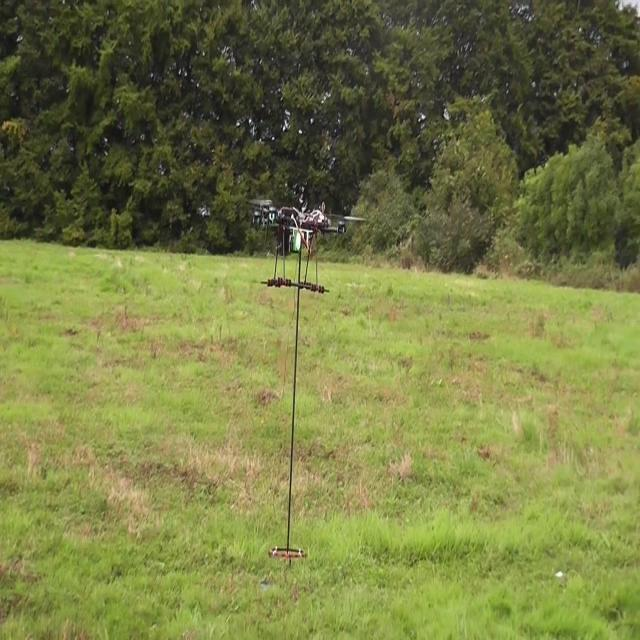UAV: (246, 194, 366, 294)
